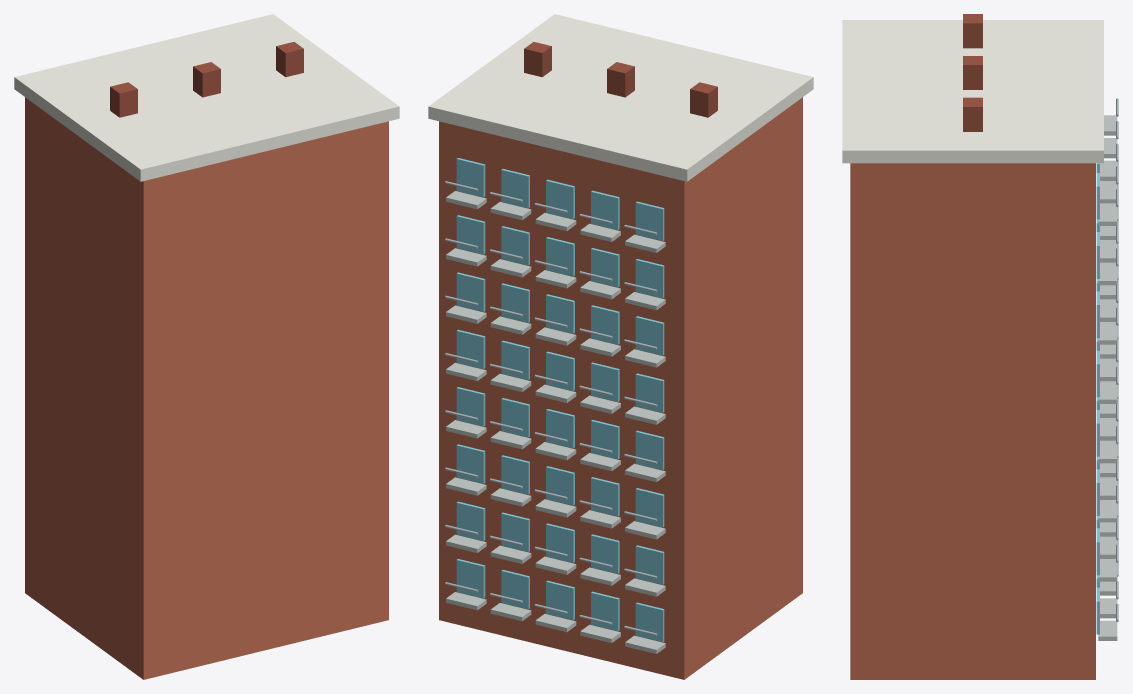
The picture shows the model from 3 angles, left to right: view 1: azimuth 30°, elevation 25°; view 2: azimuth 150°, elevation 25°; view 3: azimuth 270°, elevation 25°; orthographic projection. The views are drawn at different scales.
Parts seen in each view (by area): view 1: apartment-tower, roof, roof-vent (×3); view 2: apartment-tower, balcony-door (×40), roof, roof-vent (×3); view 3: apartment-tower, roof, roof-vent (×3).
Part boxes in pixels (x1,y1,x2,y2): apartment-tower: (25, 97, 388, 679); roof: (14, 14, 399, 181); roof-vent (×3): (110, 42, 303, 117); apartment-tower: (439, 97, 802, 679); balcony-door (×40): (456, 158, 664, 641); roof: (428, 14, 813, 181); roof-vent (×3): (524, 42, 717, 117); apartment-tower: (850, 163, 1095, 679); roof: (842, 20, 1103, 163); roof-vent (×3): (963, 14, 982, 131).
Bounding box in the file's own units: 7.8 × 15.52 × 6.97.
